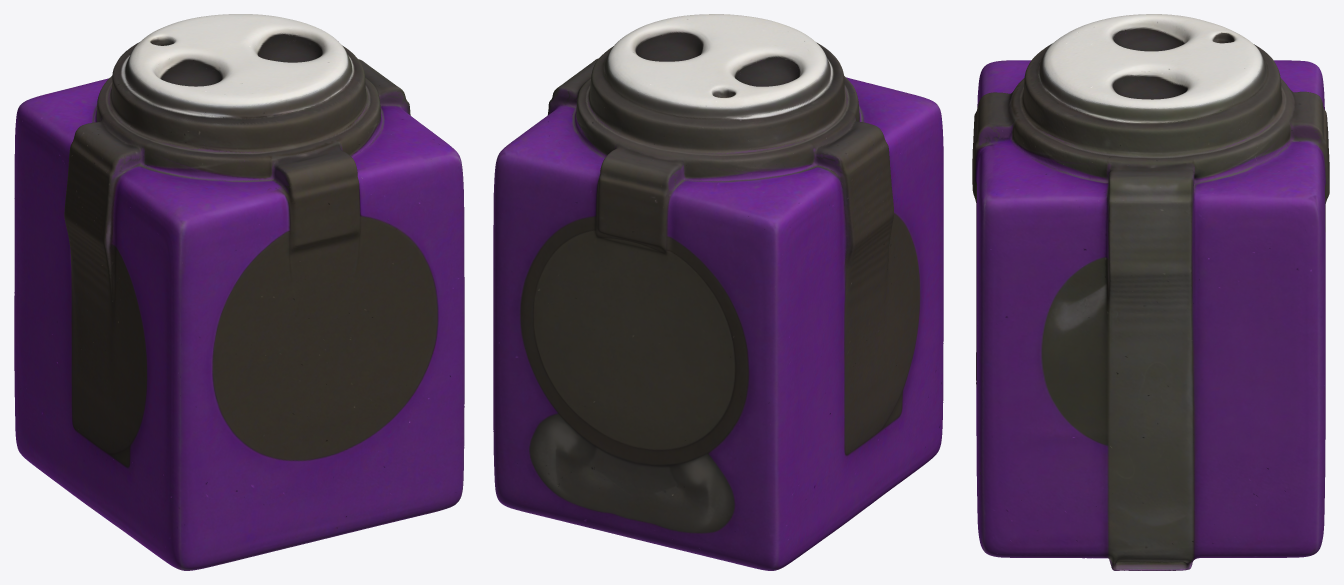
File: mario.glb
The picture shows the model from 3 angles, left to right: view 1: azimuth 30°, elevation 25°; view 2: azimuth 150°, elevation 25°; view 3: azimuth 270°, elevation 25°; orthographic projection.
Size of the model in its own units: 1.45 by 2 by 1.42.
Materials: 1 (1 with a texture image).
